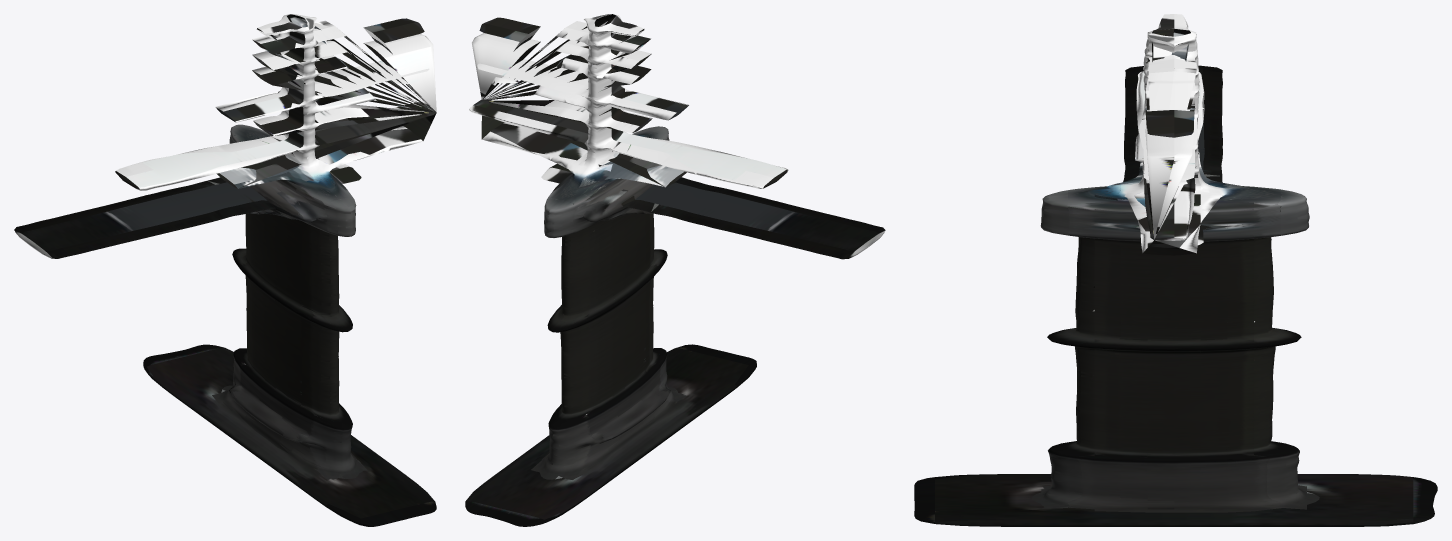
Rendered from feature-radio-antenna.glb.
The picture shows the model from 3 angles, left to right: view 1: azimuth 30°, elevation 25°; view 2: azimuth 150°, elevation 25°; view 3: azimuth 270°, elevation 25°; orthographic projection. The views are drawn at different scales.
Parts seen in each view (by area): view 1: tmpb2oa29yk.ply; view 2: tmpb2oa29yk.ply; view 3: tmpb2oa29yk.ply.
Boxes of the visible parts, x1=… form: tmpb2oa29yk.ply: x1=14, y1=14, x2=436, y2=526; tmpb2oa29yk.ply: x1=465, y1=14, x2=885, y2=526; tmpb2oa29yk.ply: x1=914, y1=14, x2=1437, y2=526.
Bounding box in the file's own units: 1 × 1 × 1.
1 material, 1 textured.
